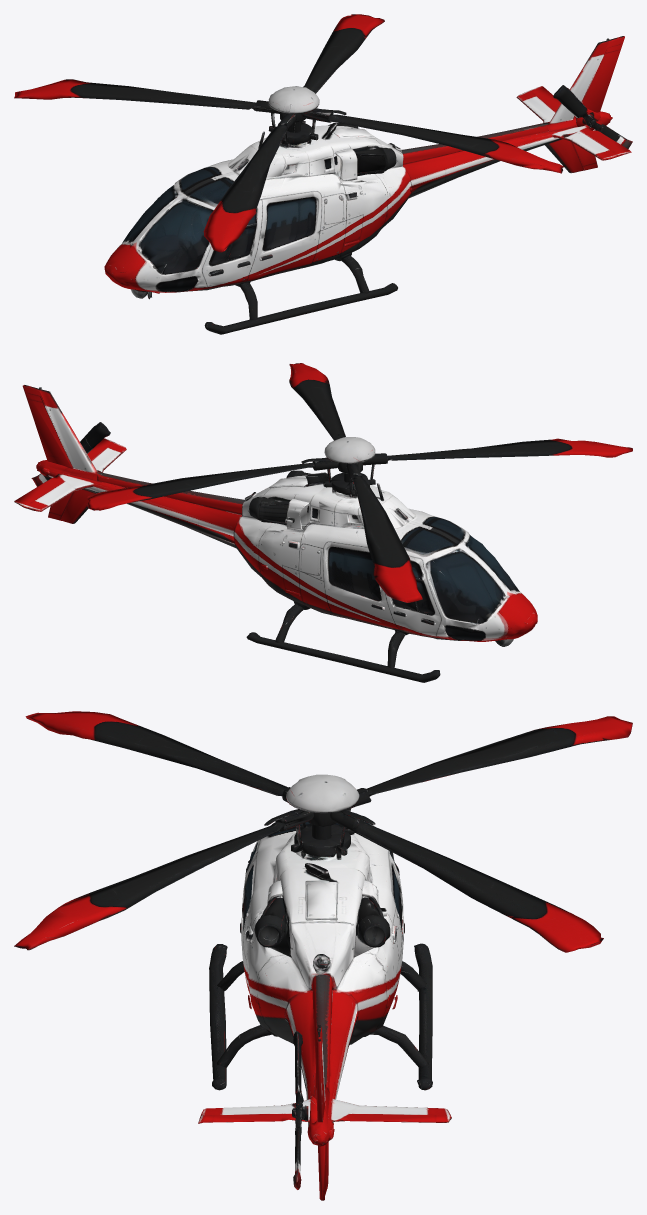
File: Meshy_AI_Redline_Rescue_Helicopter_20261104_texture.fbx
The picture shows the model from 3 angles, top to bottom: view 1: azimuth 30°, elevation 25°; view 2: azimuth 150°, elevation 25°; view 3: azimuth 270°, elevation 25°; orthographic projection. The views are drawn at different scales.
Visible parts, largest first — view 1: Mesh_0; view 2: Mesh_0; view 3: Mesh_0.
Boxes of the visible parts, x1,y1,x2,y2 form: Mesh_0: [14, 14, 632, 334]; Mesh_0: [14, 363, 632, 682]; Mesh_0: [14, 711, 632, 1200].
Bounding box in the file's own units: 94.92 × 33.54 × 70.17.
Materials: 1 (1 with a texture image).
